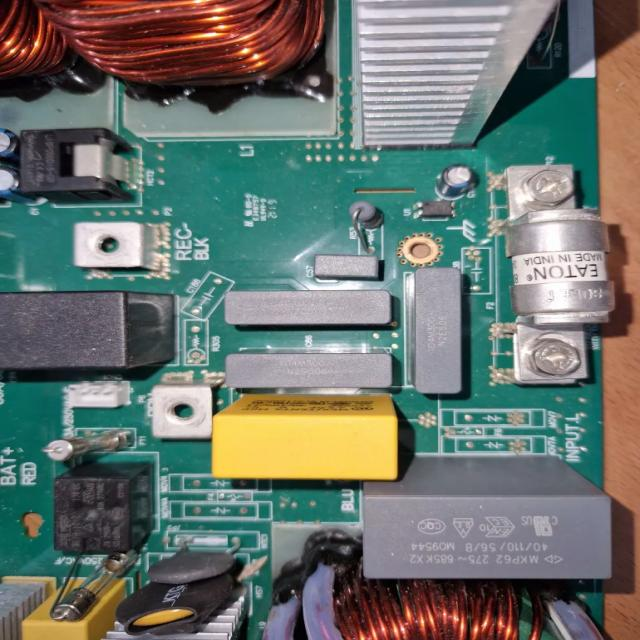A: (0, 0, 338, 102), (261, 578, 614, 640)
B: (503, 168, 616, 390)
